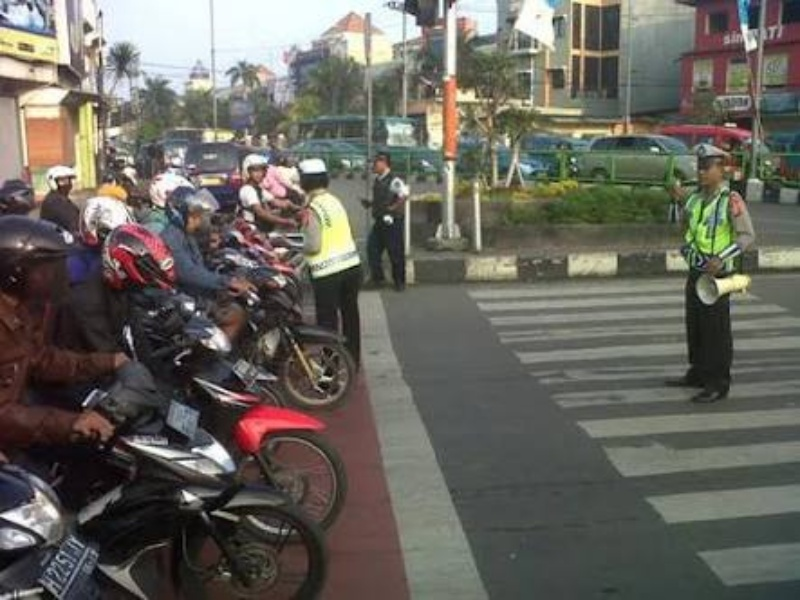zebra cross: (468, 283, 800, 591)
